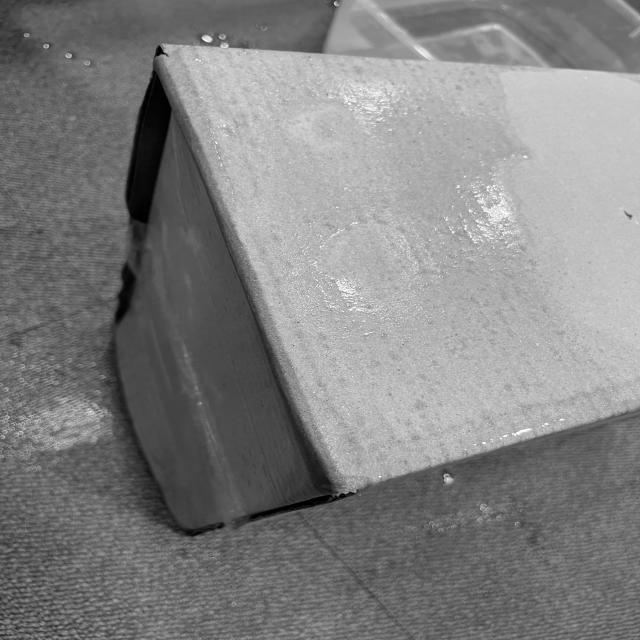wet: (126, 67, 606, 501)
